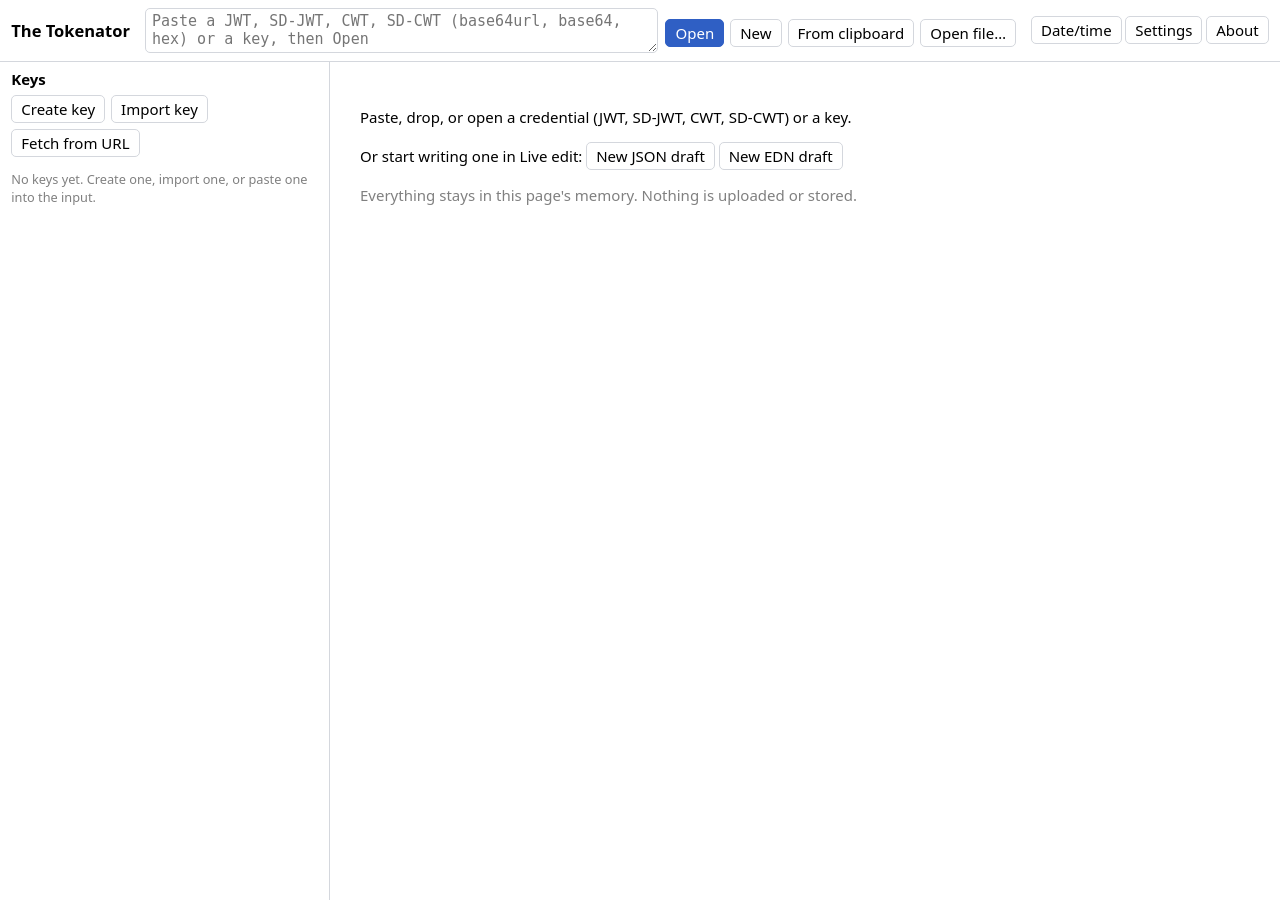
Test: starting a draft › New opens a tab in Live edit with the JSON template and provenance "New"
The width and height of the screenshot is (1280, 900).
Click the button "New". click: coordinates (756, 33)
box: [730,19,782,47]
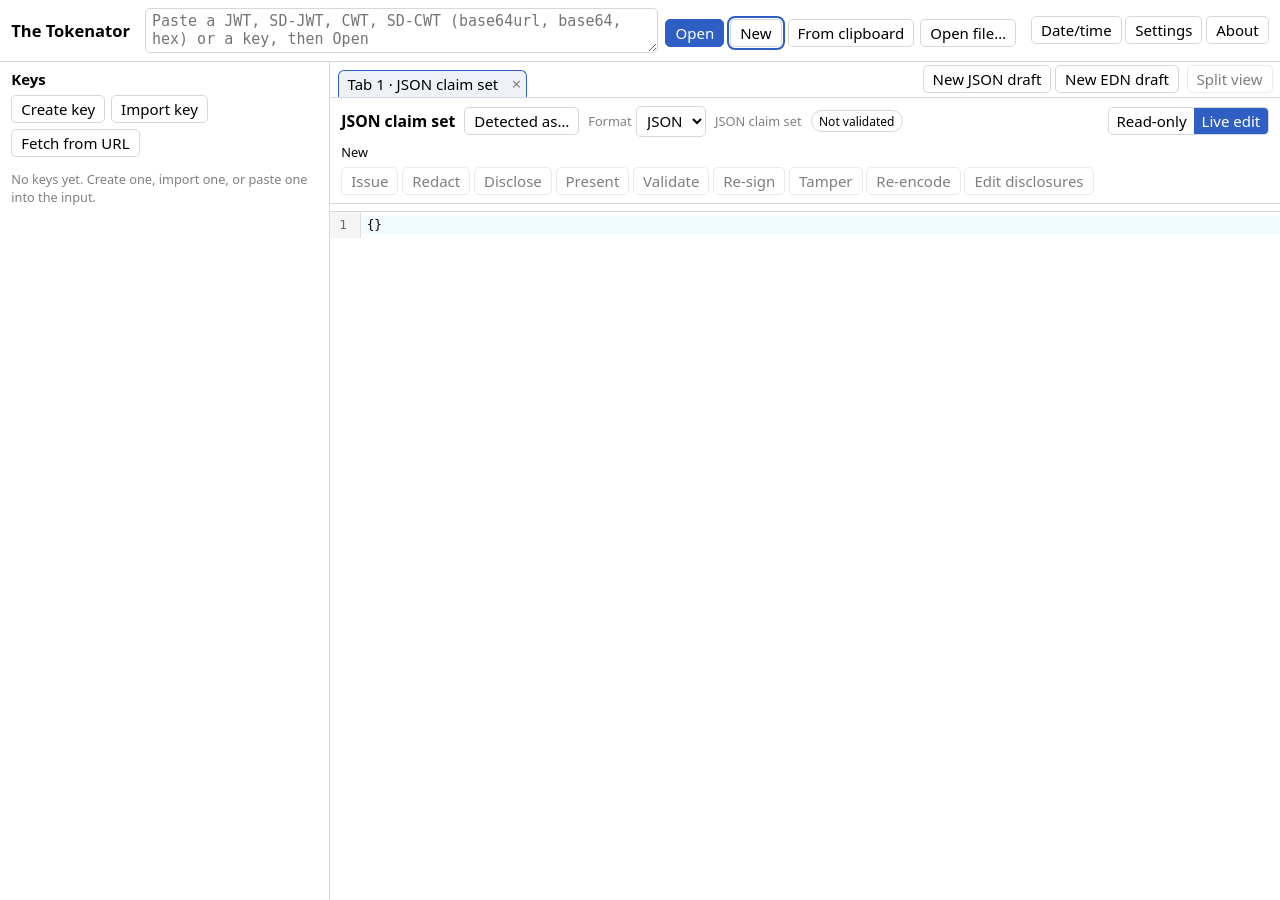
Now the element with test id "live-editor" is shown, box [330,212,1279,238]
Now the number of tabs is 1, box [338,71,507,97]
Now the dropdown labelled "Format" shows "JSON", box [636,106,706,137]
